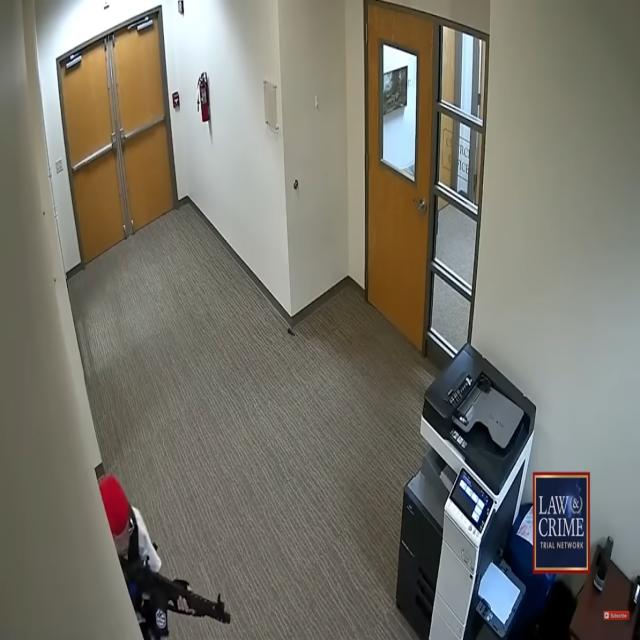Rifle: (118, 548, 233, 640)
